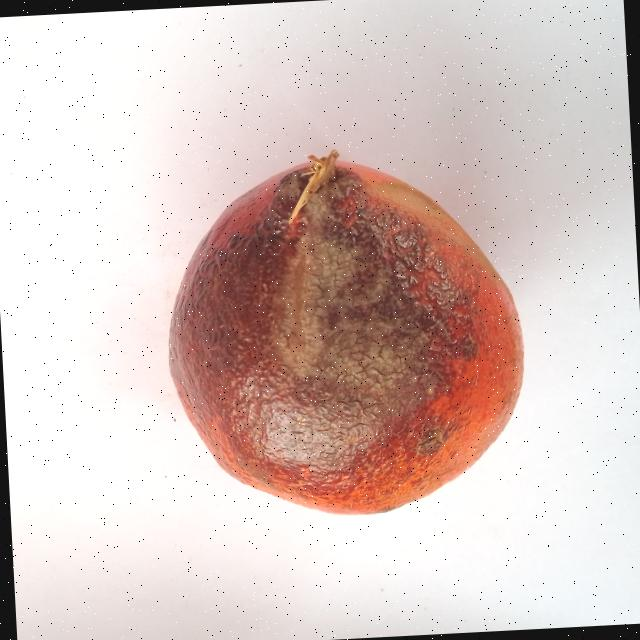overripe: (149, 136, 546, 531)
